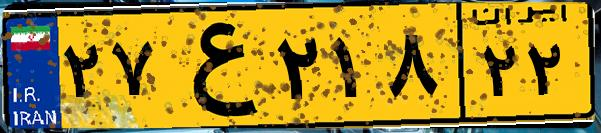1: (330, 28, 385, 110)
2: (270, 28, 330, 110), (57, 26, 110, 100), (475, 38, 525, 113), (525, 38, 570, 115)
7: (110, 28, 158, 98)
8: (385, 28, 445, 110)
ع: (158, 12, 270, 120)
